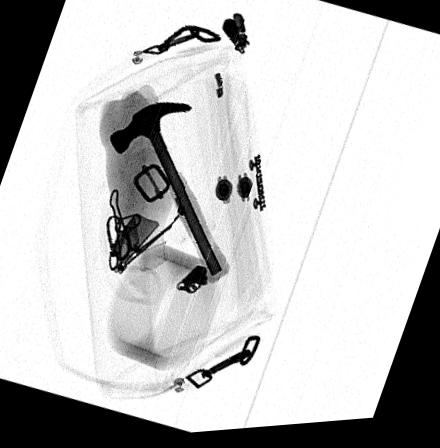Hammer: (108, 104, 230, 287)
